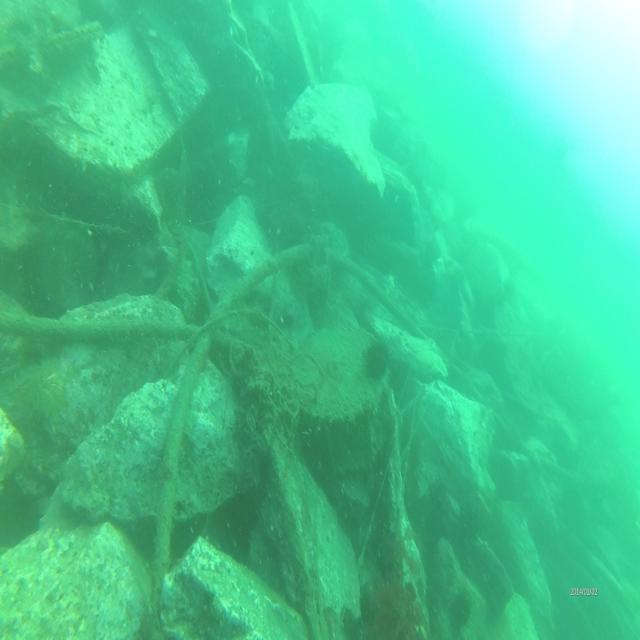echinus: (360, 331, 394, 390), (450, 587, 472, 631)
